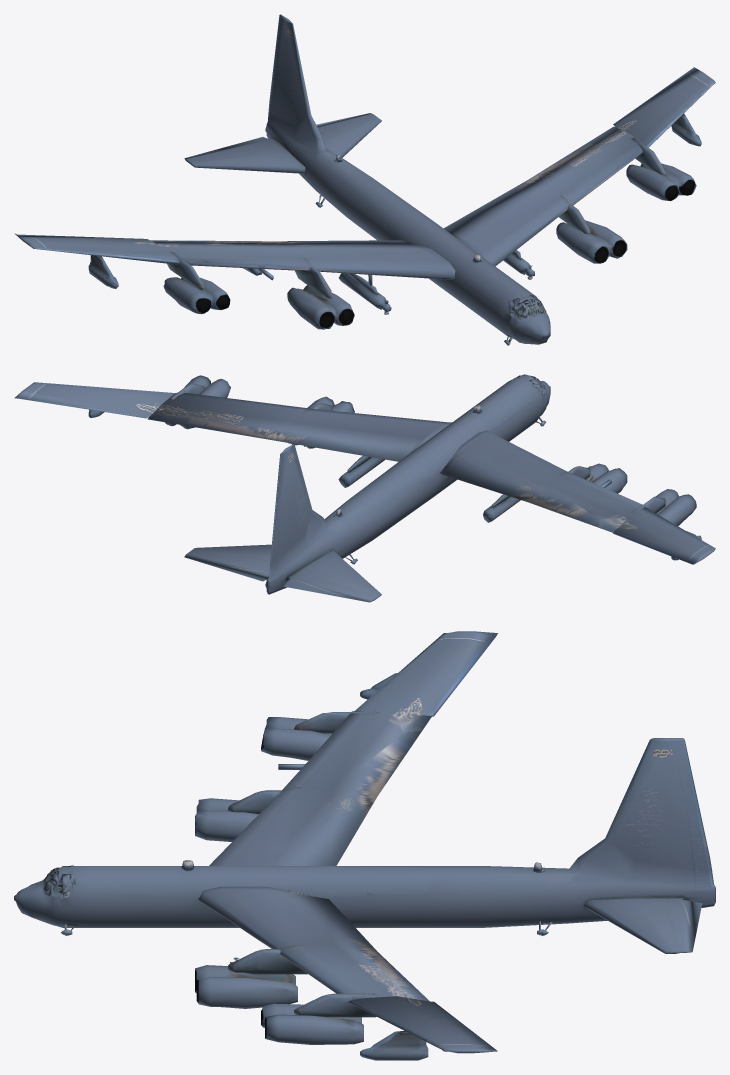
Rendered from B-52 Stratofortress Bomber Aircraft.glb.
3 renders of one model, top to bottom at view 1: azimuth 30°, elevation 25°; view 2: azimuth 150°, elevation 25°; view 3: azimuth 270°, elevation 25°, orthographic. The views are drawn at different scales.
Visible parts, largest first — view 1: pb_node; view 2: pb_node; view 3: pb_node.
Part boxes in pixels (x1,y1,x2,y2): pb_node: [14, 14, 715, 345]; pb_node: [14, 374, 715, 602]; pb_node: [14, 631, 715, 1060].
Size of the model in its own units: 0.998 by 0.2129 by 0.7051.
1 material, 1 textured.
